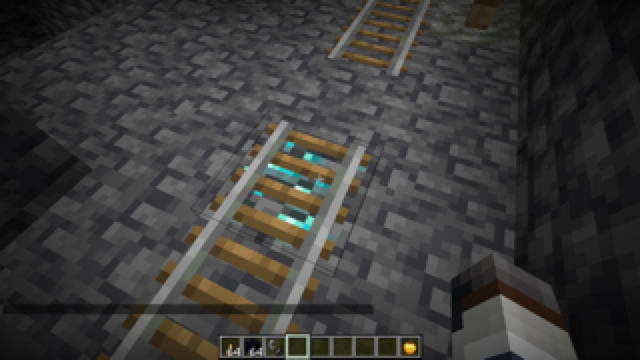diamond: (203, 116, 393, 271)
